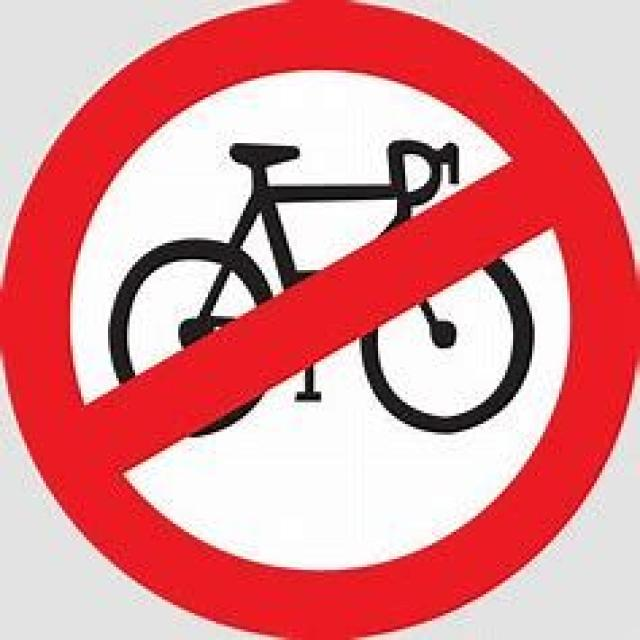cycle_prohibited: (0, 0, 637, 637)
